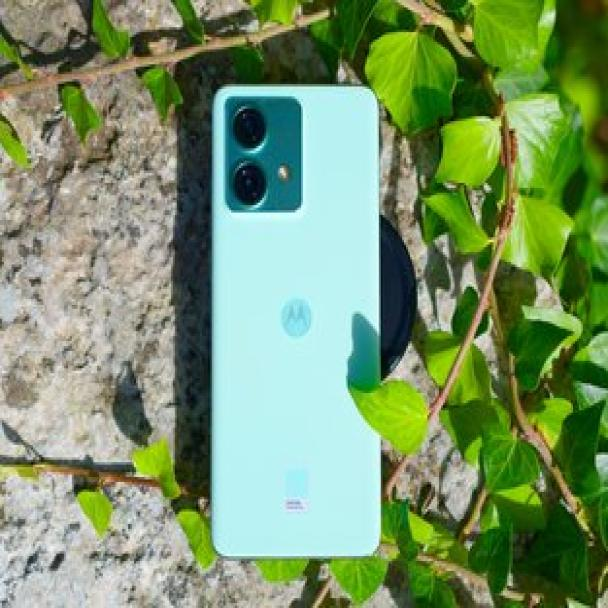Handphone: (209, 85, 383, 560)
